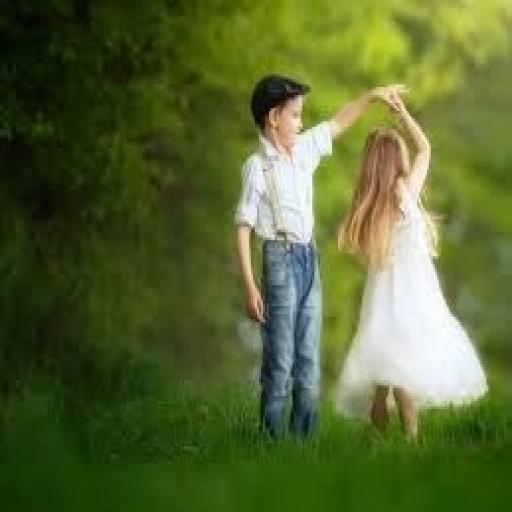dancing: (231, 69, 409, 446), (332, 84, 492, 446)
